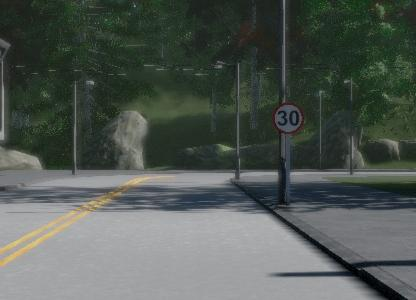Speed_30: (271, 99, 306, 137)
